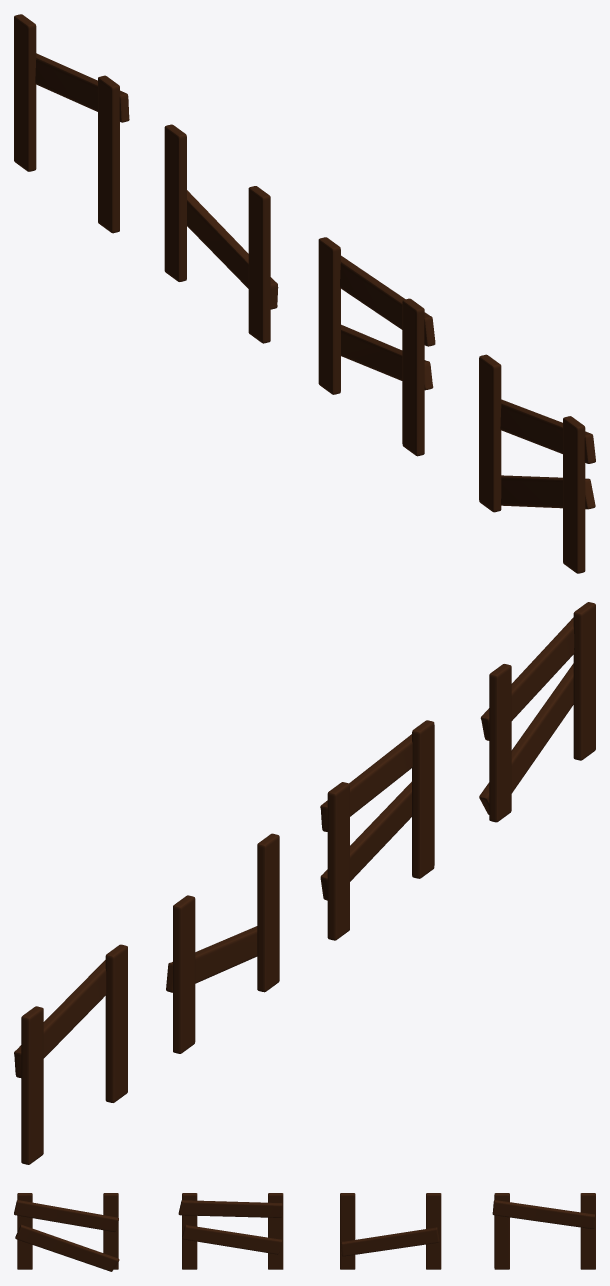
Rendered from Wood_fence.fbx.
3 renders of one model, top to bottom at view 1: azimuth 30°, elevation 25°; view 2: azimuth 150°, elevation 25°; view 3: azimuth 270°, elevation 25°, orthographic. The views are drawn at different scales.
Visible parts, largest first — view 1: Morning wood.001, Morning wood, Morning wood.002, Morning wood.003; view 2: Morning wood, Morning wood.001, Morning wood.003, Morning wood.002; view 3: Morning wood, Morning wood.001, Morning wood.003, Morning wood.002.
Part boxes in pixels (box(x1,y1,x2,y2)): Morning wood.001: box(318, 237, 435, 456); Morning wood: box(479, 354, 595, 573); Morning wood.002: box(164, 124, 278, 343); Morning wood.003: box(14, 14, 129, 233); Morning wood: box(479, 602, 595, 822); Morning wood.001: box(320, 720, 434, 940); Morning wood.003: box(14, 944, 127, 1164); Morning wood.002: box(166, 833, 279, 1053); Morning wood: box(14, 1193, 119, 1271); Morning wood.001: box(178, 1193, 283, 1269); Morning wood.003: box(492, 1193, 595, 1269); Morning wood.002: box(340, 1193, 441, 1269).
Size of the model in its own units: 38.84 by 298 by 2083.
